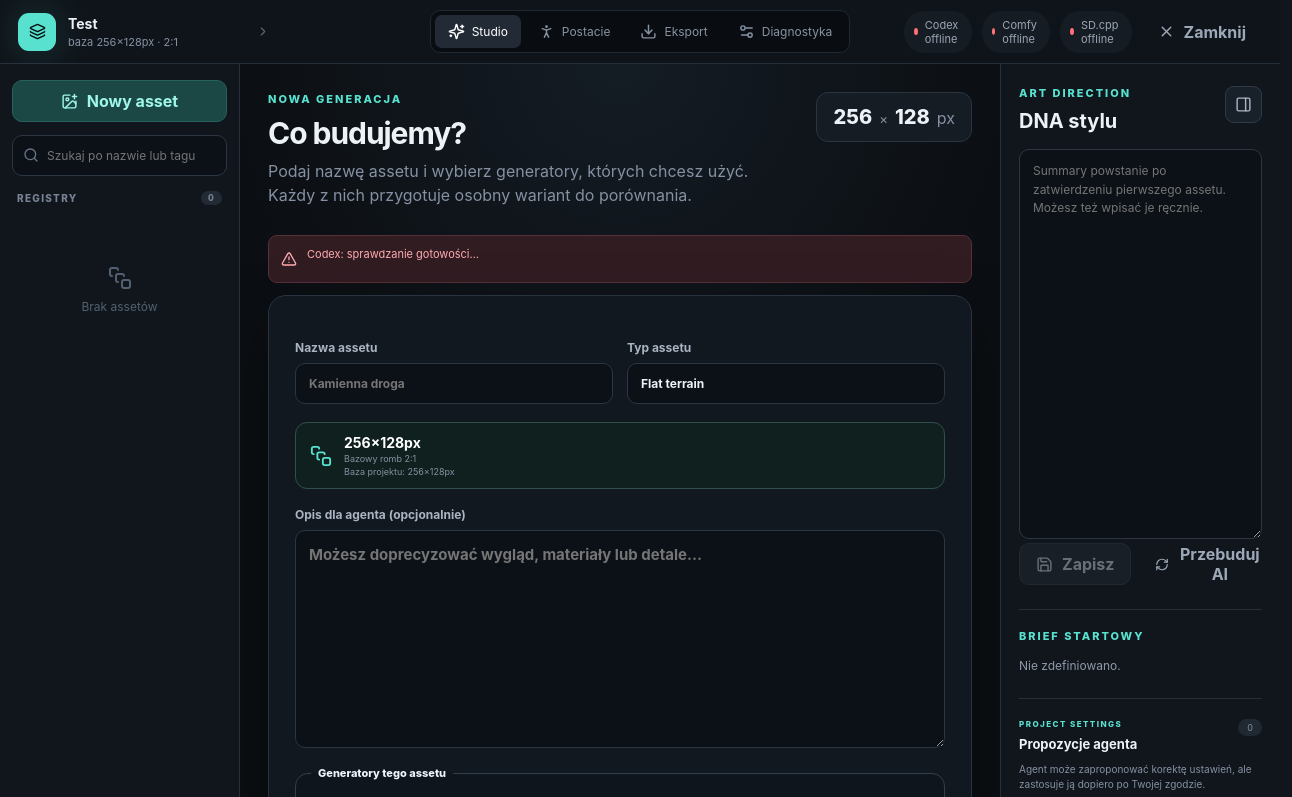
Test: pokazuje osobną sekcję Postacie i generuje pełny zestaw kierunków izometrycznych
The width and height of the screenshot is (1292, 797).
Check: the option "Postać" is not shown
Click the button "Postacie" at (574, 32), box [525,15,623,48]
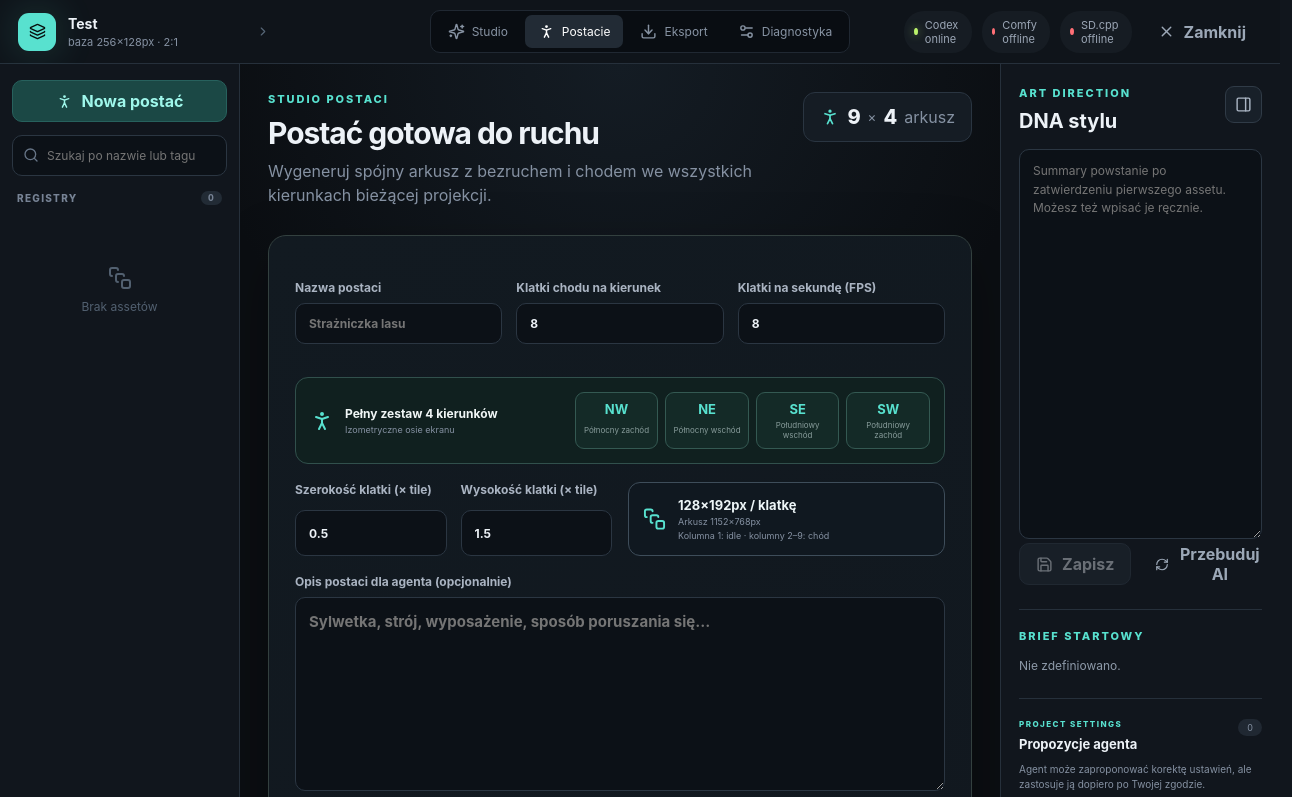
Check: the heading "Postać gotowa do ruchu" is shown, box [268,115,599,151]
Check: the text "NW" is shown, box [605,401,628,422]
Check: the text "SW" is shown, box [877,401,899,417]
Type "Leśna strażniczka" into the field labelled "Nazwa postaci" at (399, 324), box [295,303,502,344]
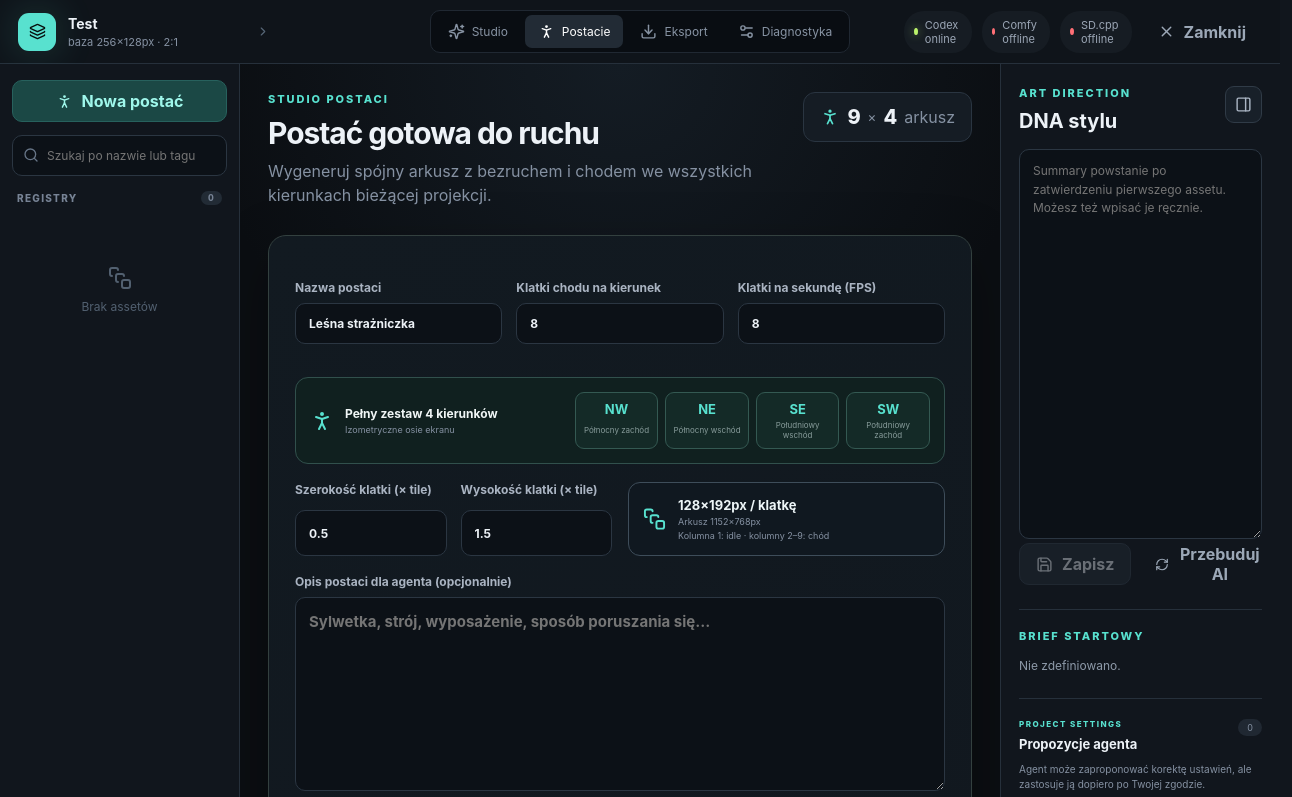
Replace the text in the number field labelled "Klatki na sekundę (FPS)" with "12" at (841, 324), box [738,303,945,344]
(page scrolled)
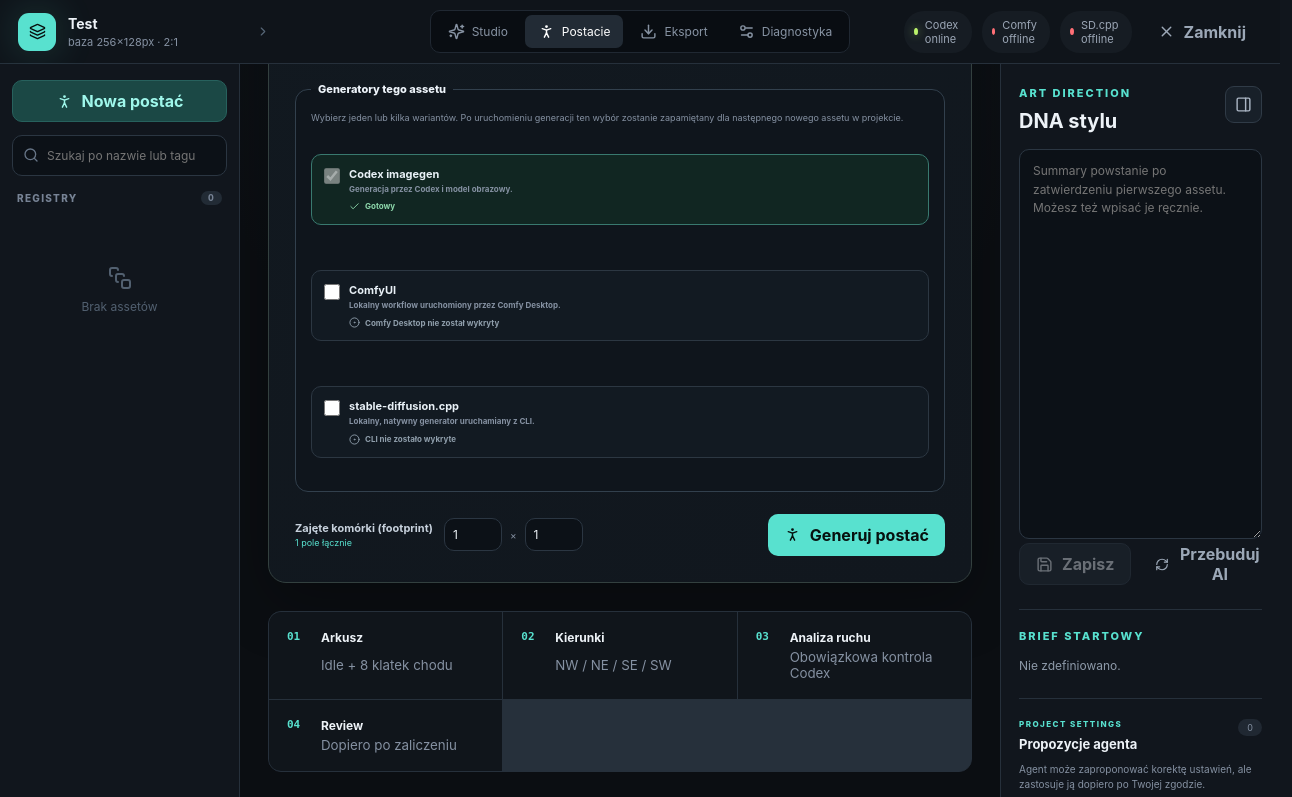
Replace the text in the number field named "Footprint X postaci — zajęte komórki" with "2" at (473, 535), box [444,518,502,551]
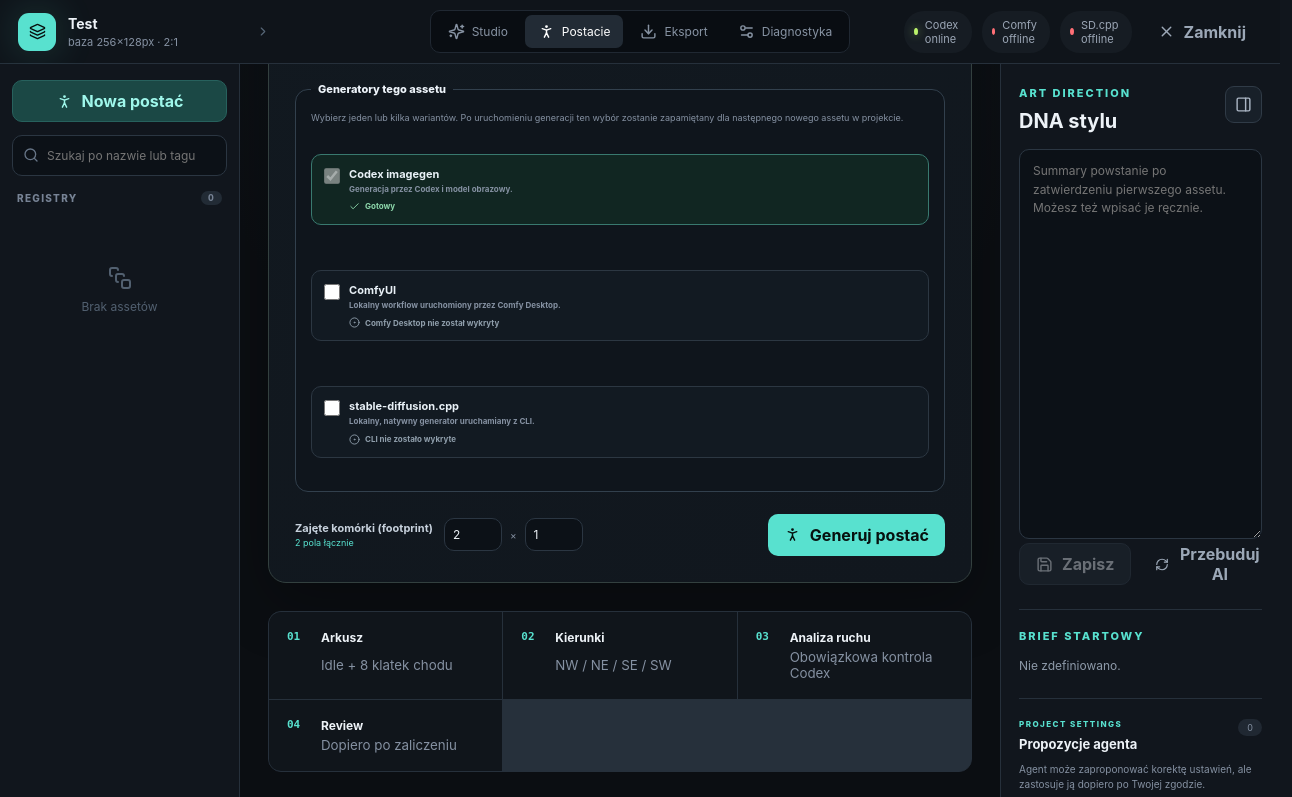
Check: the button "Generuj postać" is enabled
Click the button "Generuj postać" at (856, 535), box [768,514,945,556]
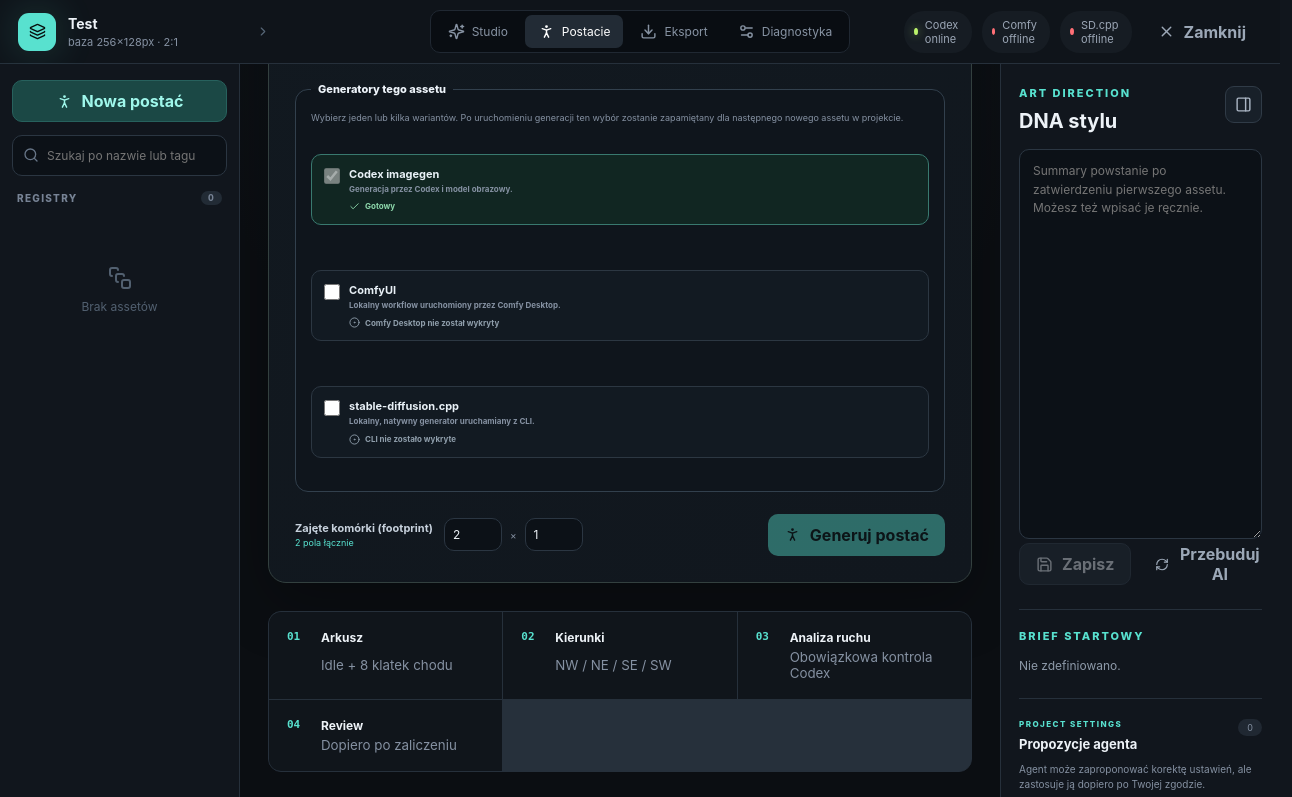
Click the button with aria-label "Strona główna projektu Test" at (148, 32), box [18,8,278,56]
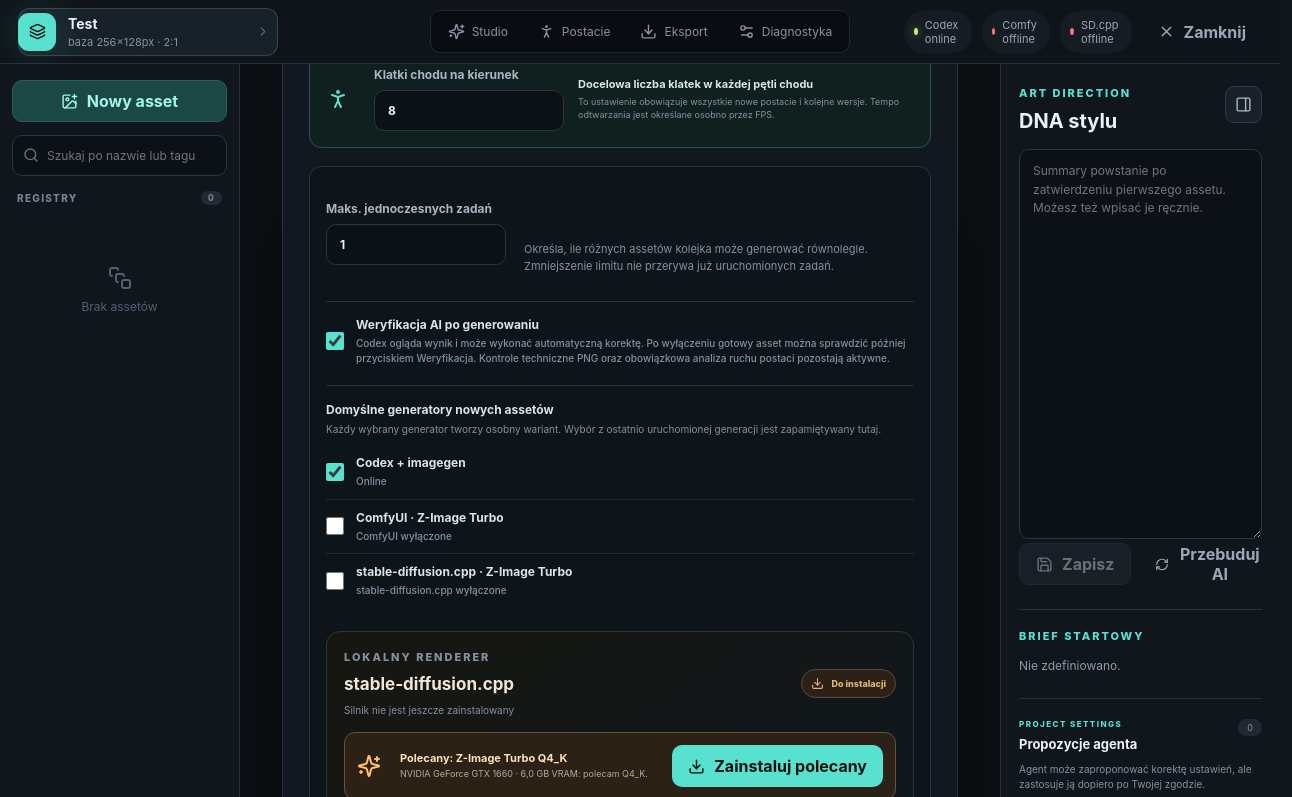
Check: the text "obowiązkowa analiza ruchu postaci pozostają aktywne" is shown, box [356,337,906,364]
